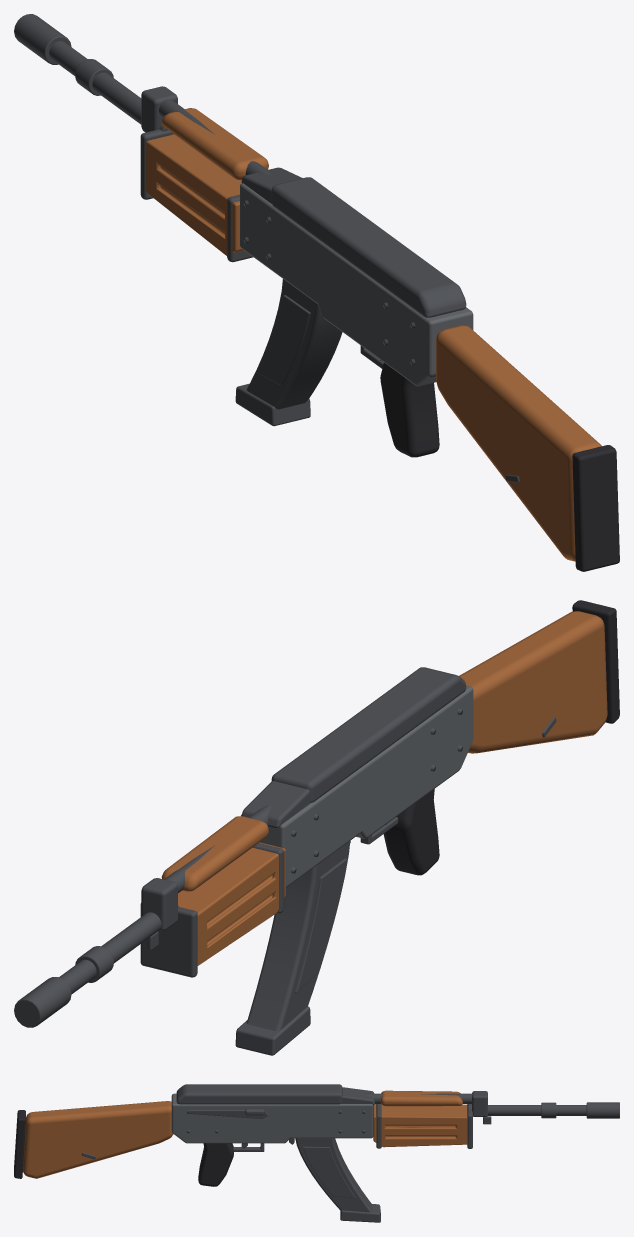
File: akr.glb
The picture shows the model from 3 angles, top to bottom: view 1: azimuth 30°, elevation 25°; view 2: azimuth 150°, elevation 25°; view 3: azimuth 270°, elevation 25°; orthographic projection. The views are drawn at different scales.
Visible parts, largest first — view 1: stock, receiver, dustcover, mag, handguard_lo, buttplate, pgrip, handguard_hi, barrel, brake, gasblock, rearsight; view 2: stock, receiver, mag, dustcover, handguard_lo, handguard_hi, pgrip, hg_ring_front, barrel, buttplate, brake, rearsight (+3 smaller); view 3: stock, receiver, handguard_lo, dustcover, mag, pgrip, handguard_hi, barrel, buttplate, brake, rearsight, selector (+5 smaller).
Boxes of the visible parts, x1=… form: stock: x1=436, y1=325, x2=601, y2=561; receiver: x1=240, y1=183, x2=473, y2=386; dustcover: x1=271, y1=177, x2=466, y2=317; mag: x1=235, y1=279, x2=342, y2=426; handguard_lo: x1=146, y1=134, x2=243, y2=255; buttplate: x1=572, y1=445, x2=619, y2=571; pgrip: x1=380, y1=362, x2=439, y2=457; handguard_hi: x1=161, y1=108, x2=268, y2=179; barrel: x1=49, y1=41, x2=168, y2=131; brake: x1=14, y1=14, x2=71, y2=64; gasblock: x1=141, y1=86, x2=177, y2=132; rearsight: x1=241, y1=167, x2=302, y2=203; stock: x1=459, y1=611, x2=607, y2=753; receiver: x1=241, y1=685, x2=473, y2=887; mag: x1=235, y1=841, x2=350, y2=1055; dustcover: x1=271, y1=667, x2=466, y2=802; handguard_lo: x1=178, y1=842, x2=285, y2=965; handguard_hi: x1=161, y1=816, x2=268, y2=891; pgrip: x1=383, y1=789, x2=439, y2=875; hg_ring_front: x1=140, y1=903, x2=197, y2=977; barrel: x1=59, y1=905, x2=178, y2=993; buttplate: x1=572, y1=600, x2=619, y2=723; brake: x1=14, y1=977, x2=71, y2=1027; rearsight: x1=241, y1=781, x2=310, y2=828; stock: x1=23, y1=1101, x2=173, y2=1178; receiver: x1=171, y1=1093, x2=373, y2=1143; handguard_lo: x1=373, y1=1104, x2=467, y2=1147; dustcover: x1=176, y1=1084, x2=342, y2=1104; mag: x1=295, y1=1138, x2=380, y2=1222; pgrip: x1=198, y1=1143, x2=233, y2=1186; handguard_hi: x1=380, y1=1090, x2=462, y2=1106; barrel: x1=468, y1=1105, x2=586, y2=1115; buttplate: x1=14, y1=1110, x2=25, y2=1178; brake: x1=586, y1=1102, x2=619, y2=1118; rearsight: x1=341, y1=1087, x2=374, y2=1104; selector: x1=188, y1=1110, x2=268, y2=1118.
Size of the model in its own units: 0.076 by 0.3018 by 1.28.
